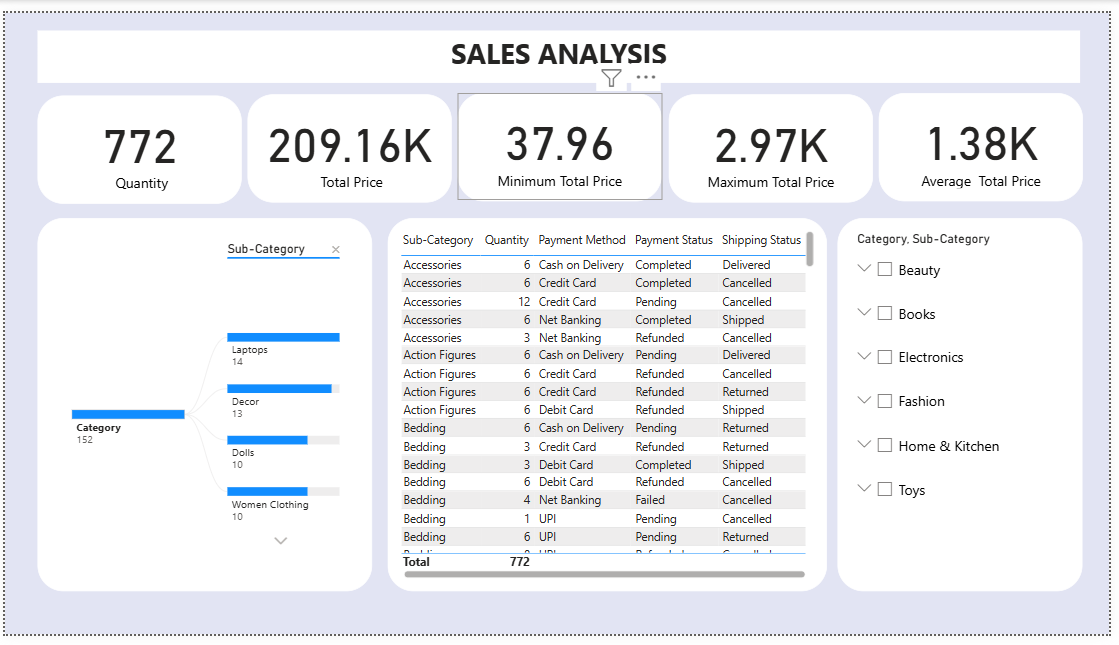

This screenshot's page, from the dashboard's own definition file:
{"tool":"powerbi","page":{"name":"Page 1","canvas":[1280,720],"ordinal":0},"visuals":[{"type":"card","fields":{"Values":["Sum(Sheet1 (2).Quantity)"]},"box":[37.5,95.2,236.6,125.5],"z":0},{"type":"textbox","box":[37.5,20.2,1209,60.6],"z":1000},{"type":"card","fields":{"Values":["Sum(Sheet1 (2).Total Price)"]},"box":[281.3,93.8,236.6,125.5],"z":2000},{"type":"card","fields":{"Values":["Avg(Sheet1 (2).Total Price)"]},"box":[1012.8,92.3,236.6,125.5],"z":3000},{"type":"card","fields":{"Values":["Min(Sheet1 (2).Total Price)"]},"box":[525.2,92.3,236.6,125.5],"z":4000},{"type":"decompositionTreeVisual","fields":{"Analyze":["CountNonNull(Sheet1 (2).Category)"],"ExplainBy":["Sheet1 (2).Sub-Category"]},"box":[37.5,238.1,388.1,432.8],"z":5000},{"type":"tableEx","fields":{"Values":["Sheet1 (2).Sub-Category","Sum(Sheet1 (2).Quantity)","Sheet1 (2).Payment Method","Sheet1 (2).Payment Status","Sheet1 (2).Shipping Status"]},"box":[442.9,238.1,509.3,432.8],"z":6000},{"type":"slicer","fields":{"Values":["Sheet1 (2).Category","Sheet1 (2).Sub-Category"]},"box":[965.2,238.1,284.2,432.8],"z":7000},{"type":"card","fields":{"Values":["Max(Sheet1 (2).Total Price)"]},"box":[769,93.8,236.6,125.5],"z":8000}]}

Visuals, with their boxes in screenshot pixels (x1, y1, x2, y2), scaled from the page's 1280x720 canvas onto the 1119x645 screenshot:
card - Sum(Sheet1 (2).Quantity): {"left": 33, "top": 85, "right": 240, "bottom": 198}
textbox: {"left": 33, "top": 18, "right": 1090, "bottom": 72}
card - Sum(Sheet1 (2).Total Price): {"left": 246, "top": 84, "right": 453, "bottom": 196}
card - Avg(Sheet1 (2).Total Price): {"left": 885, "top": 83, "right": 1092, "bottom": 195}
card - Min(Sheet1 (2).Total Price): {"left": 459, "top": 83, "right": 666, "bottom": 195}
decompositionTreeVisual - CountNonNull(Sheet1 (2).Category) x Sheet1 (2).Sub-Category: {"left": 33, "top": 213, "right": 372, "bottom": 601}
tableEx - Sheet1 (2).Sub-Category x Sum(Sheet1 (2).Quantity): {"left": 387, "top": 213, "right": 832, "bottom": 601}
slicer - Sheet1 (2).Category x Sheet1 (2).Sub-Category: {"left": 844, "top": 213, "right": 1092, "bottom": 601}
card - Max(Sheet1 (2).Total Price): {"left": 672, "top": 84, "right": 879, "bottom": 196}
